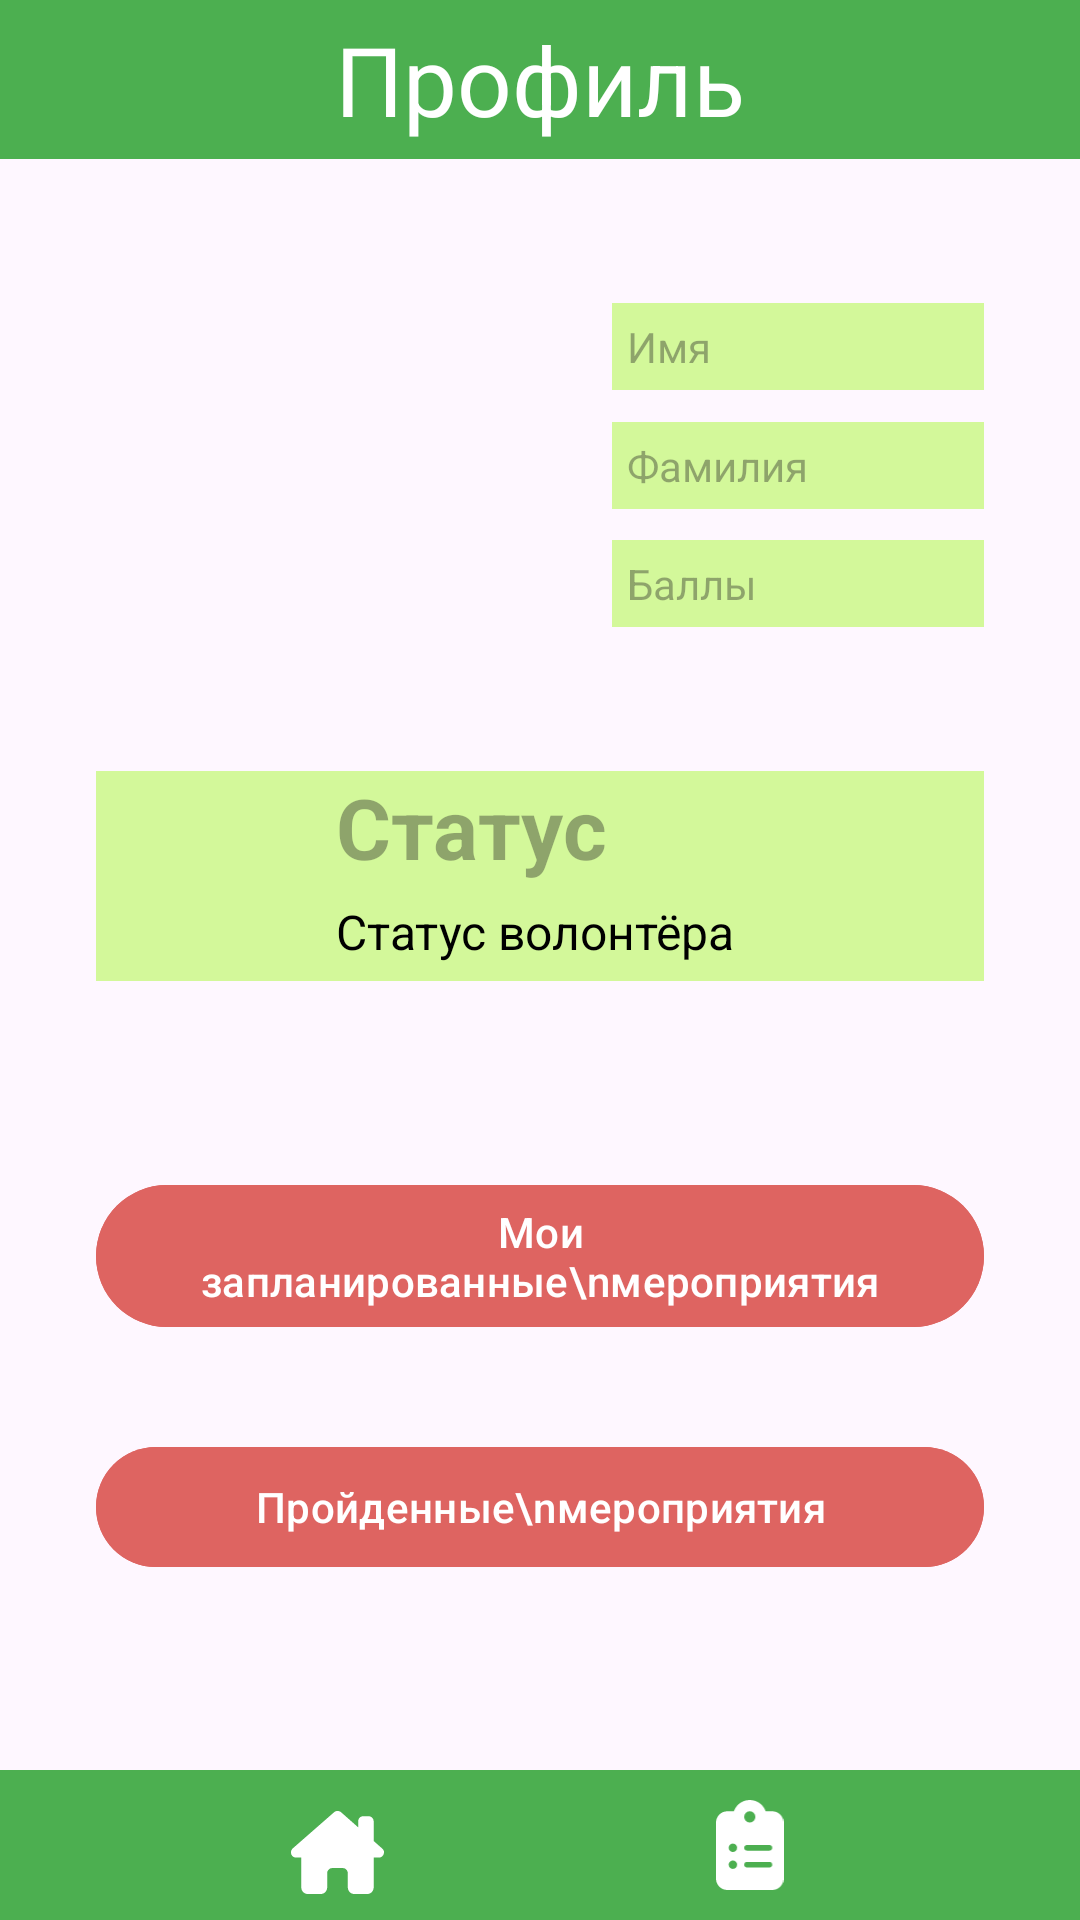

Named icons in this screenshot (1080w x 1920h) and their bounding boxes, {"left": x1, "top": y1, "right": x2, "bottom": y2}:
clipboard list: {"left": 716, "top": 1800, "right": 784, "bottom": 1890}
house: {"left": 291, "top": 1811, "right": 384, "bottom": 1894}
